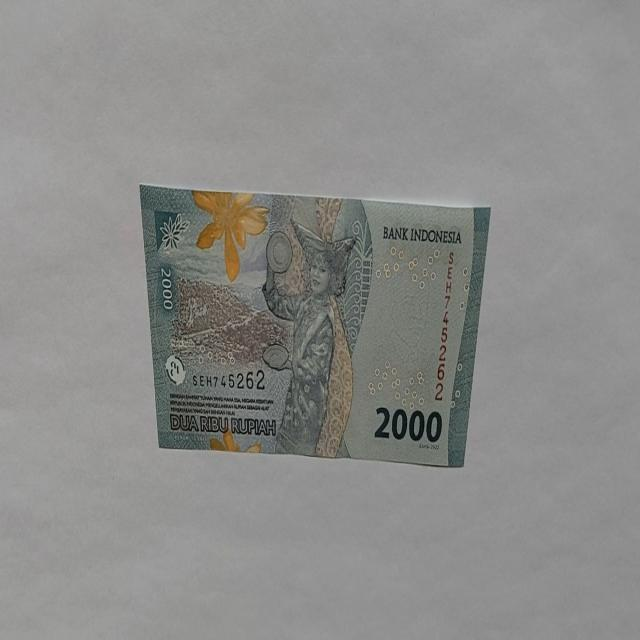dua ribu rupiah: (138, 185, 492, 468), (260, 218, 356, 457), (190, 188, 270, 282)
